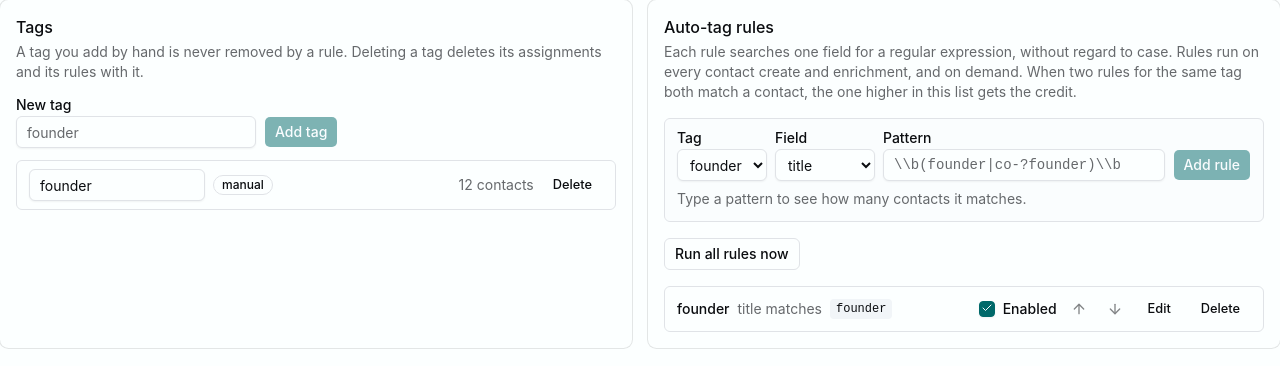
the rule editor › counts the matches as the pattern changes
The image size is (1280, 366).
Expected: the button with aria-label "Delete founder" is shown, left=542, top=171, right=603, bottom=199
Type "founder" into the field labelled "Pattern" at (1024, 165), box left=883, top=149, right=1164, bottom=181
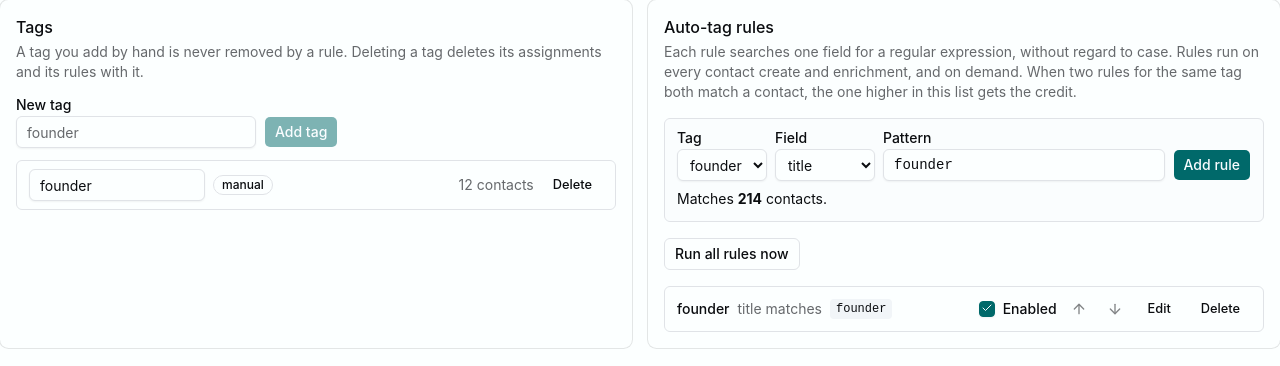
Expected: the text "214" is shown, left=738, top=190, right=762, bottom=207
Replace the text in the field labelled "Pattern" with "chief" at (1024, 165), box left=883, top=149, right=1164, bottom=181
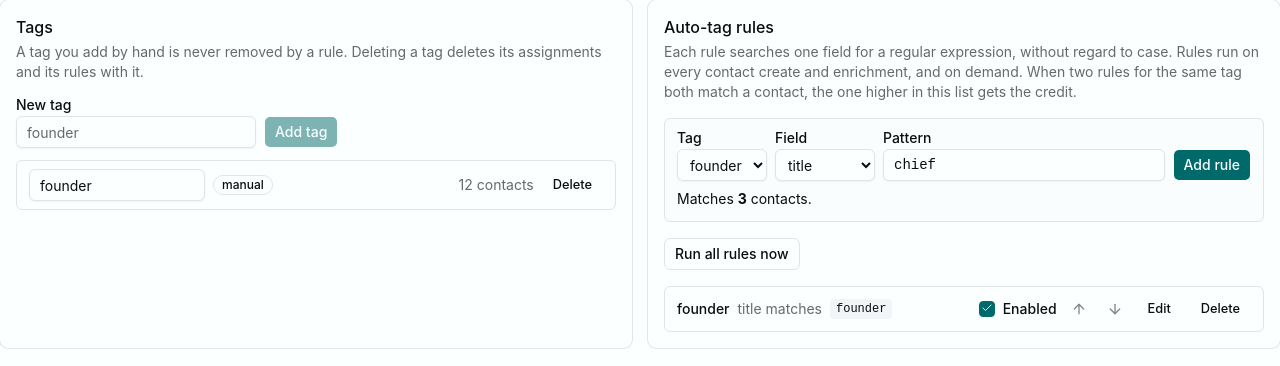
Expected: the text "3" is shown, left=738, top=190, right=747, bottom=207
